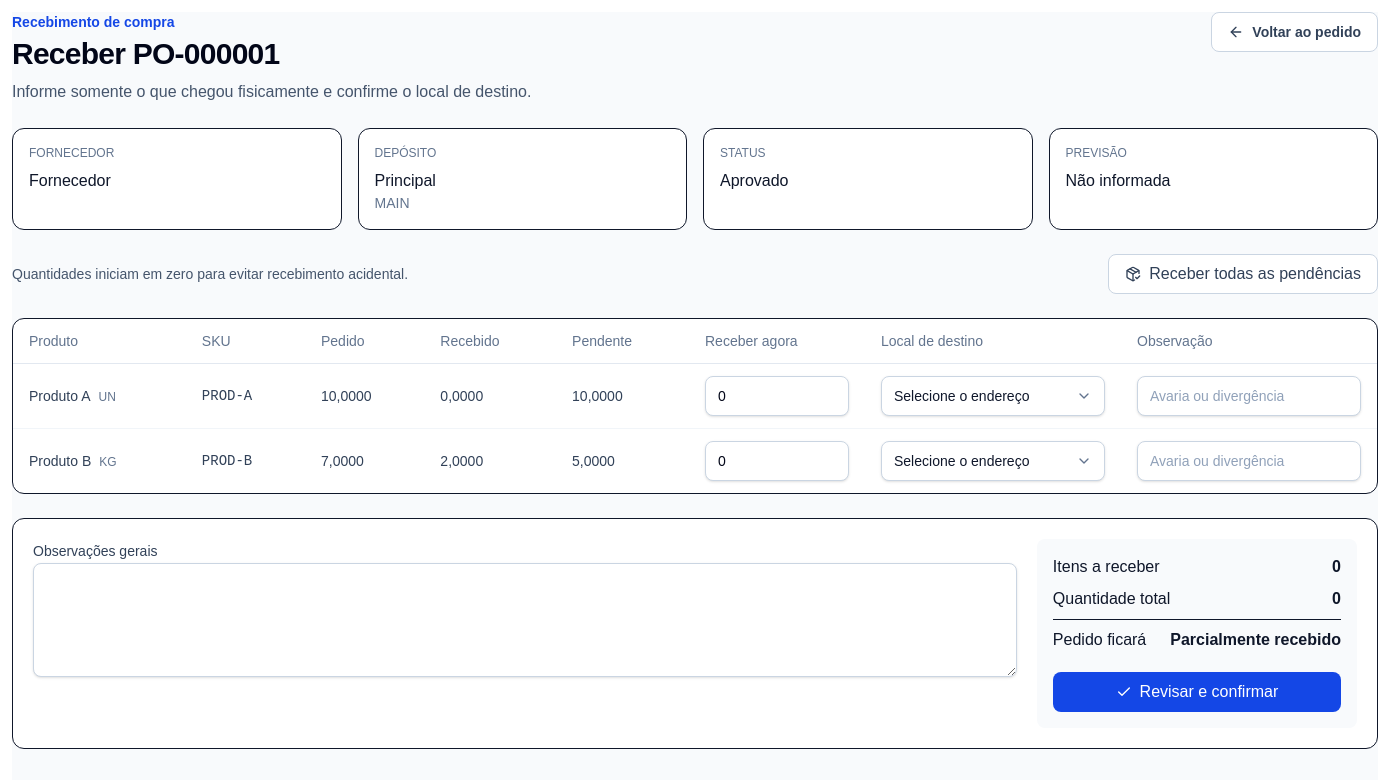
PurchaseReceiptFormPage › impede quantidade acima do pendente antes da API
The width and height of the screenshot is (1390, 780).
Step 1. Replace the text in the field named "Receber agora — Produto A" in the row of "Produto A" with "11" → point(777, 396), box [705,376,849,416]
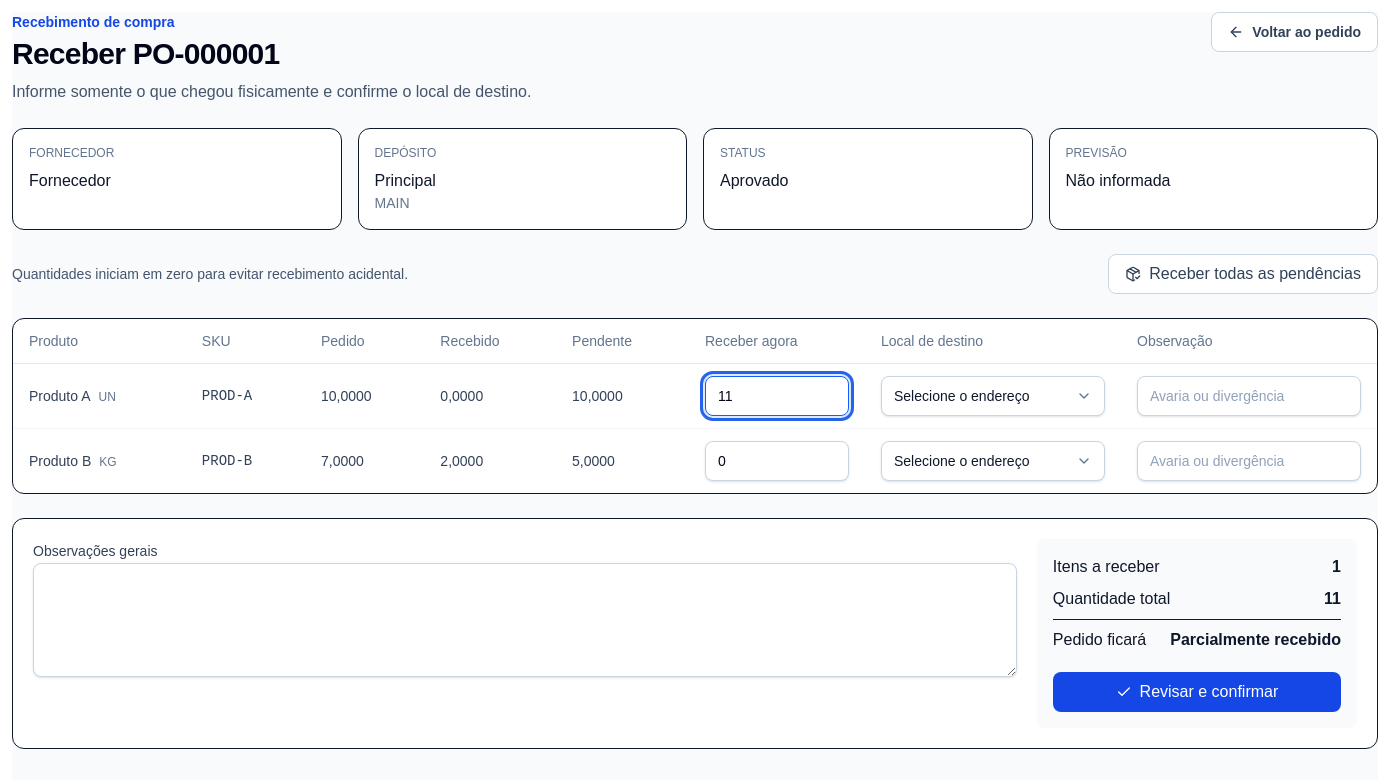
Step 2. Click the dropdown labelled "Selecione o endereço" in the row of "Produto A" → point(993, 396), box [881,376,1105,416]
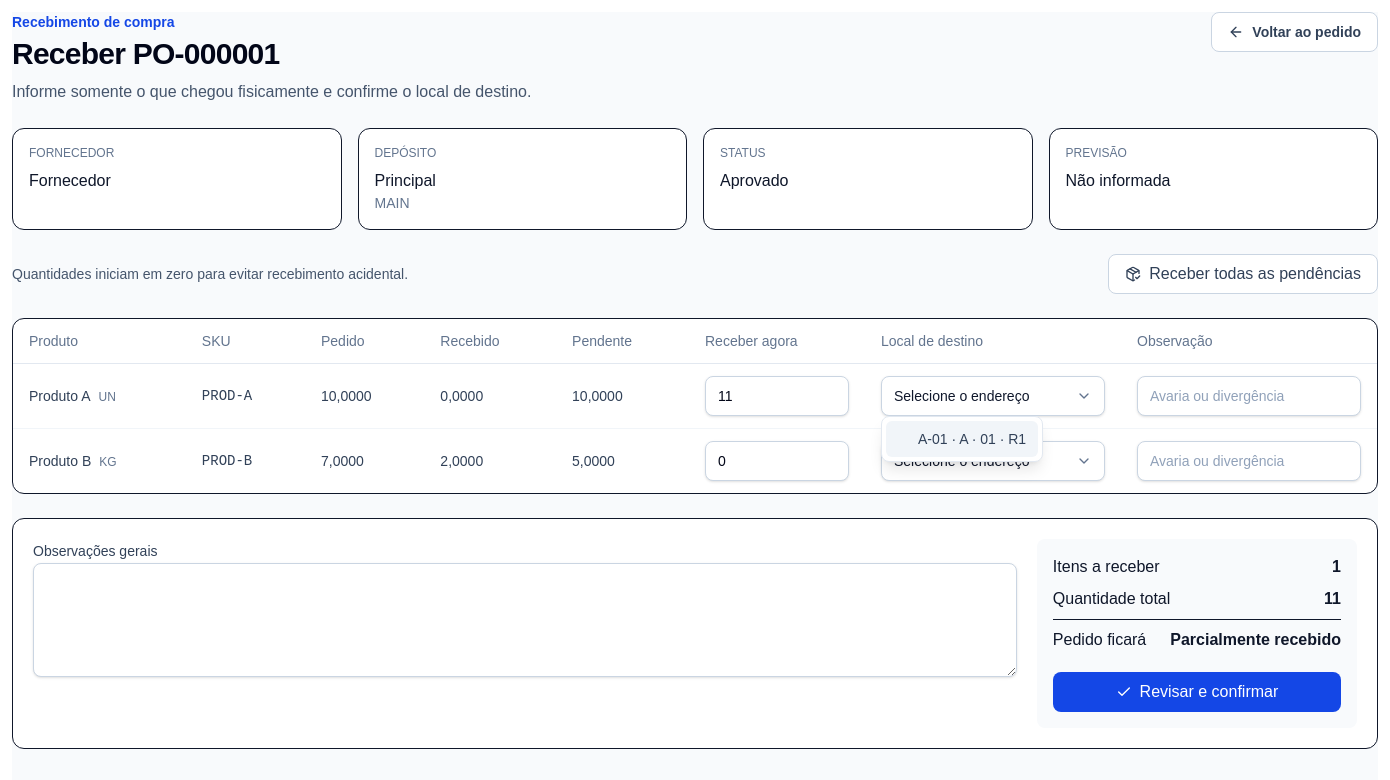
Step 3. Click the option "A-01 · A · 01 · R1" → point(962, 439), box [886,421,1038,457]
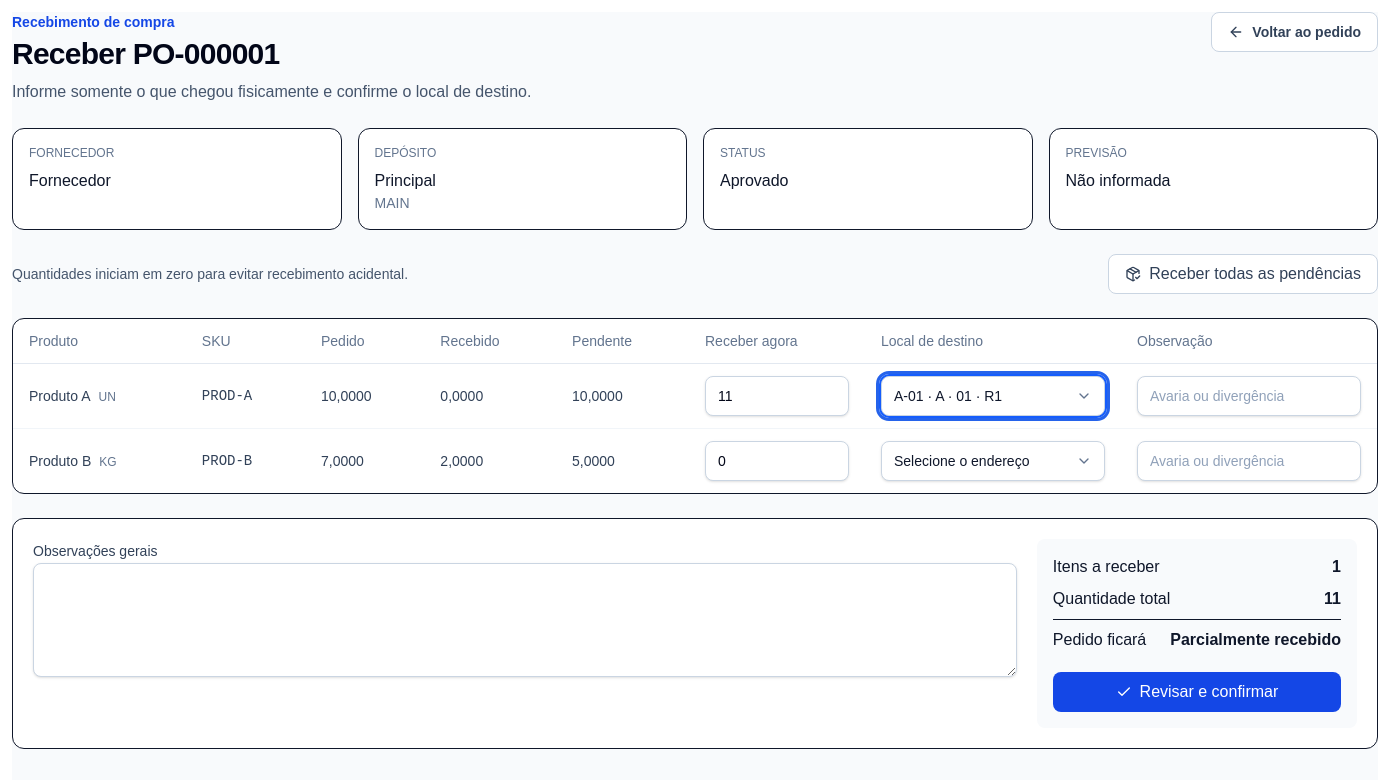
Step 4. Click the button "Revisar e confirmar" → point(1197, 692), box [1053,672,1341,712]
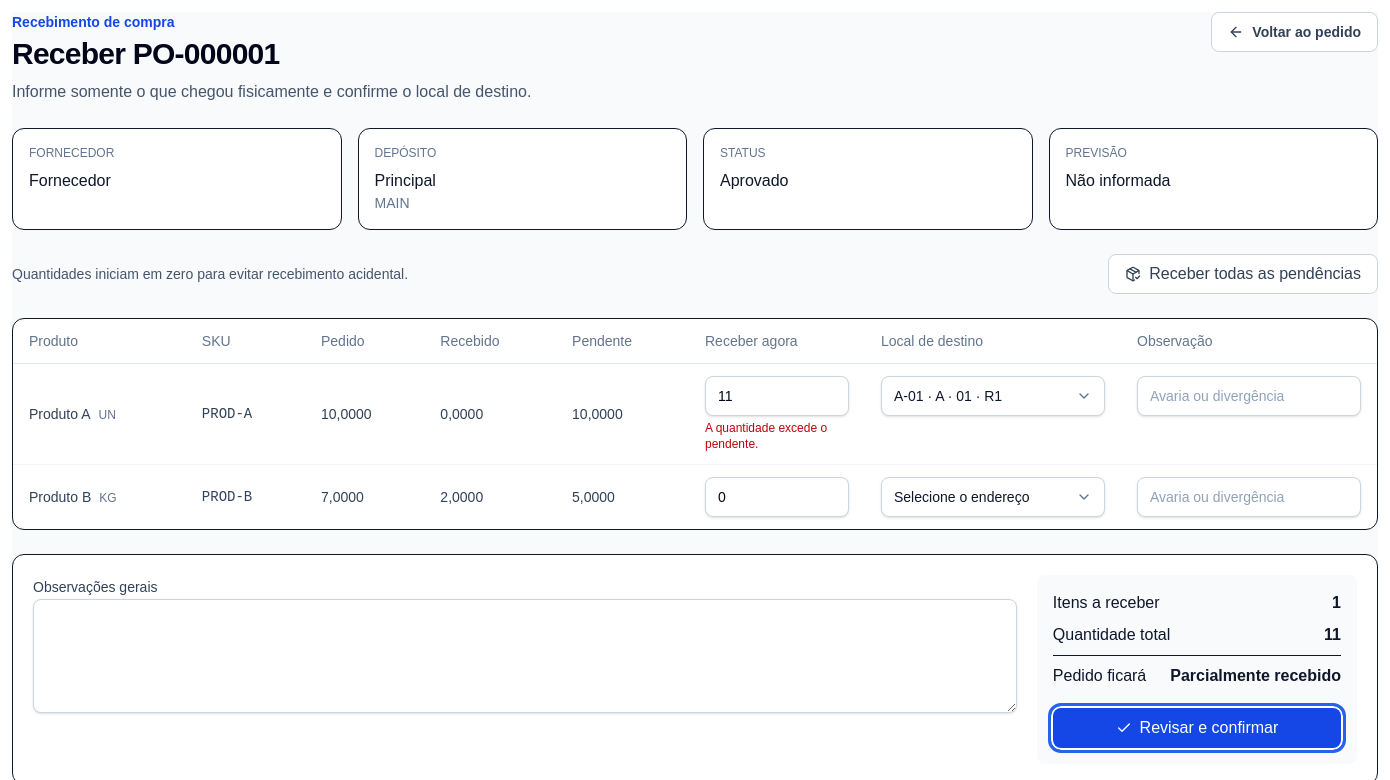
Expected: the text "A quantidade excede o pendente." is shown, [705,420,827,450]
